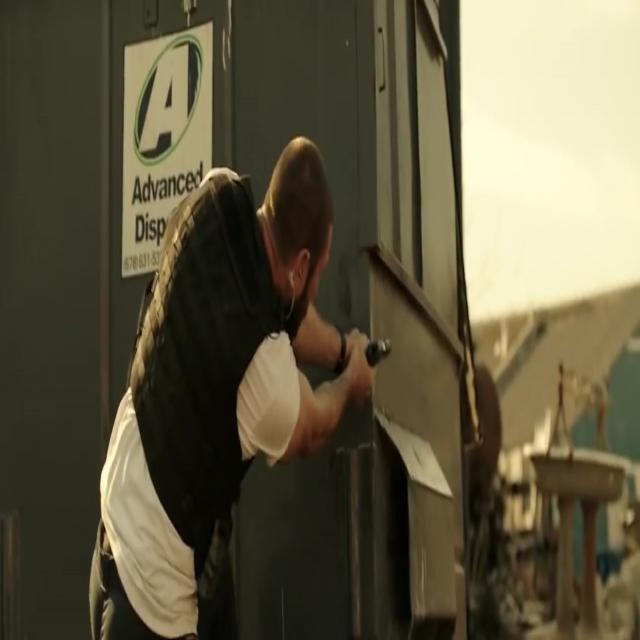Weapon: (347, 312, 402, 406)
